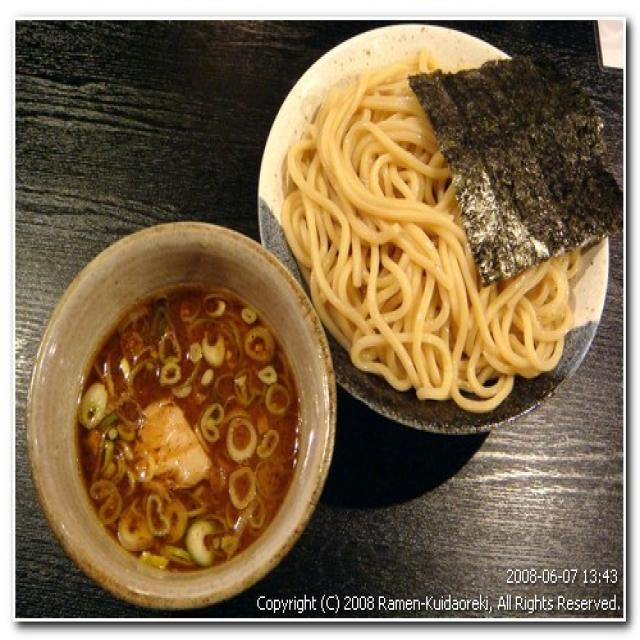面条主食: (78, 46, 608, 576)
